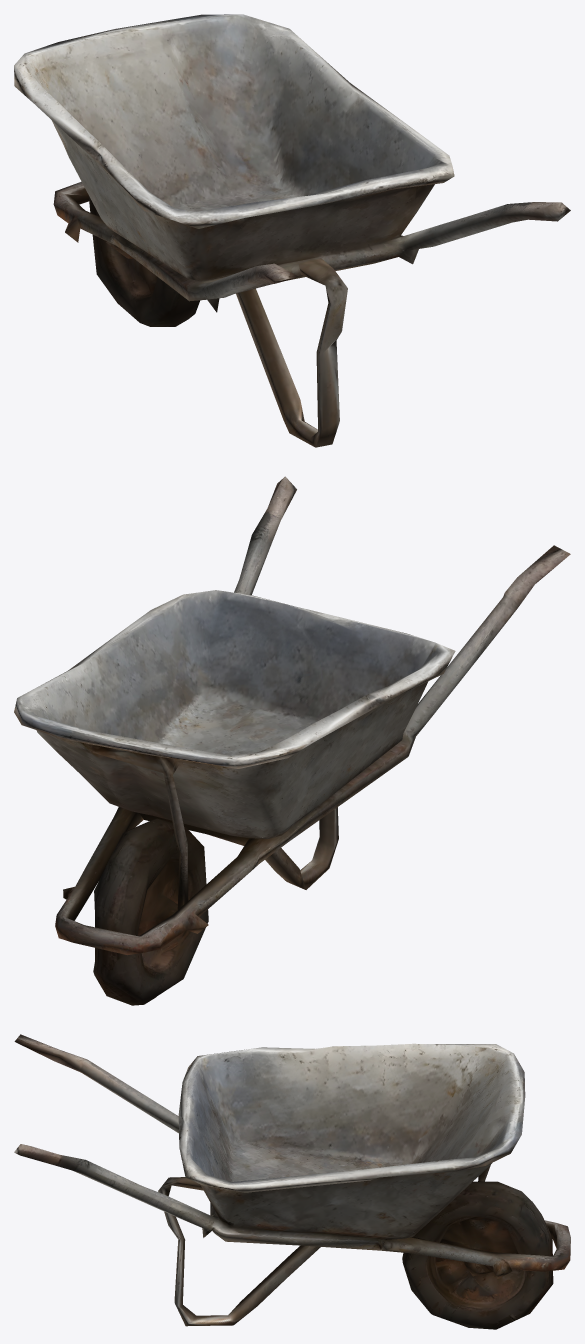
The model's file is cs_barrow.glb.
3 views of the same model, one above another, from view 1: azimuth 30°, elevation 25°; view 2: azimuth 150°, elevation 25°; view 3: azimuth 270°, elevation 25° (orthographic). The views are drawn at different scales.
Visible parts, largest first — view 1: tripo_node_01bb6cdf-0063-4acd-b82a-723a1778f967; view 2: tripo_node_01bb6cdf-0063-4acd-b82a-723a1778f967; view 3: tripo_node_01bb6cdf-0063-4acd-b82a-723a1778f967.
Boxes of the visible parts, bbox=[...] form: tripo_node_01bb6cdf-0063-4acd-b82a-723a1778f967: bbox=[14, 14, 570, 447]; tripo_node_01bb6cdf-0063-4acd-b82a-723a1778f967: bbox=[14, 476, 570, 1005]; tripo_node_01bb6cdf-0063-4acd-b82a-723a1778f967: bbox=[14, 1034, 570, 1329].
Bounding box in the file's own units: 0.5173 × 0.4734 × 1.
Materials: 1 (1 with a texture image).
